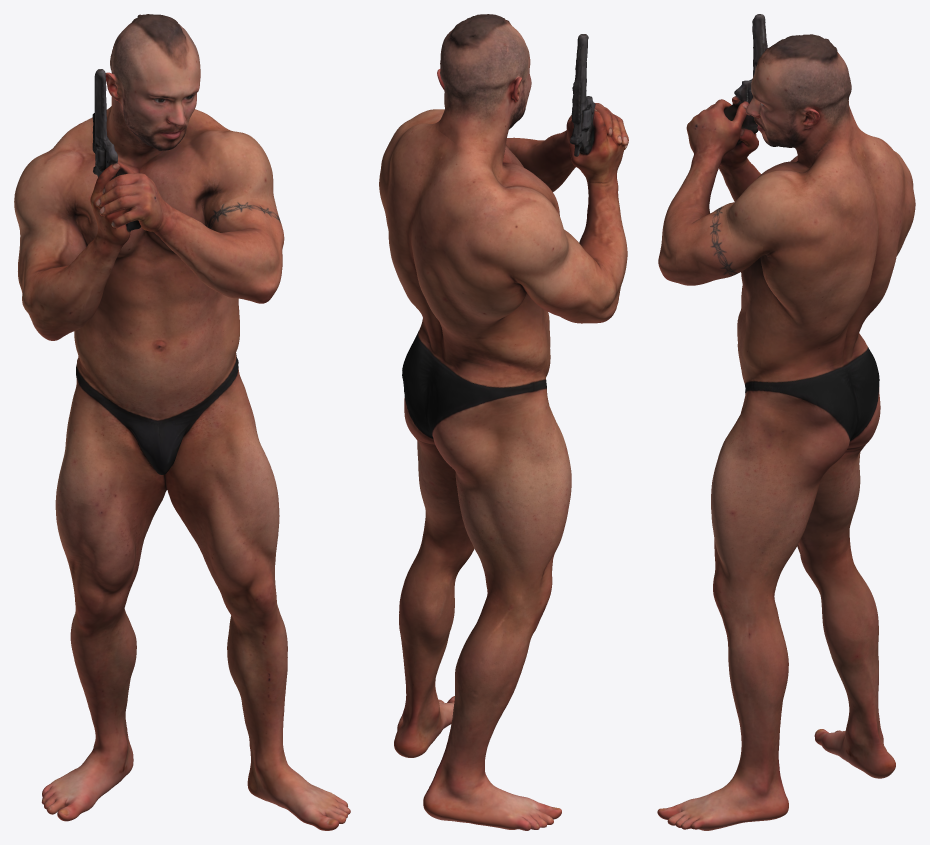
The model's file is TomasB_f.glb.
3 views of the same model, side by side, from view 1: azimuth 30°, elevation 25°; view 2: azimuth 150°, elevation 25°; view 3: azimuth 270°, elevation 25° (orthographic). The views are drawn at different scales.
Visible parts, largest first — view 1: Group1.001; view 2: Group1.001; view 3: Group1.001.
Boxes of the visible parts, x1=… form: Group1.001: x1=14, y1=14, x2=350, y2=830; Group1.001: x1=379, y1=14, x2=628, y2=830; Group1.001: x1=657, y1=14, x2=915, y2=830.
Bounding box in the file's own units: 0.6423 × 1.82 × 0.573.
Materials: 1 (1 with a texture image).
